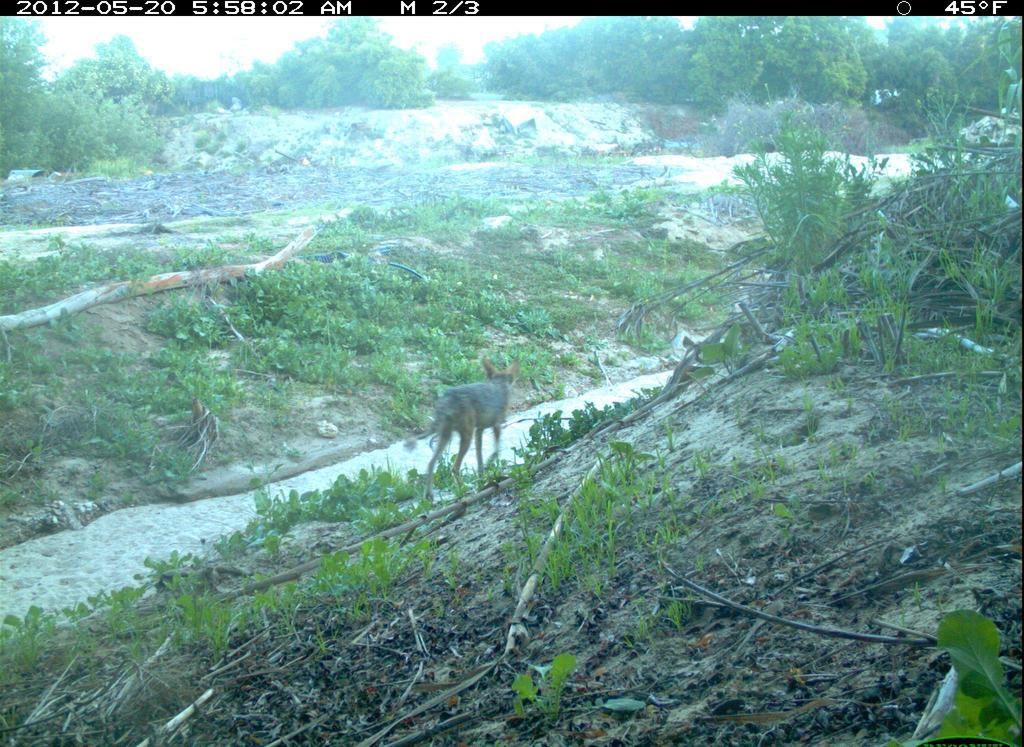coyote: (416, 342, 536, 497)
